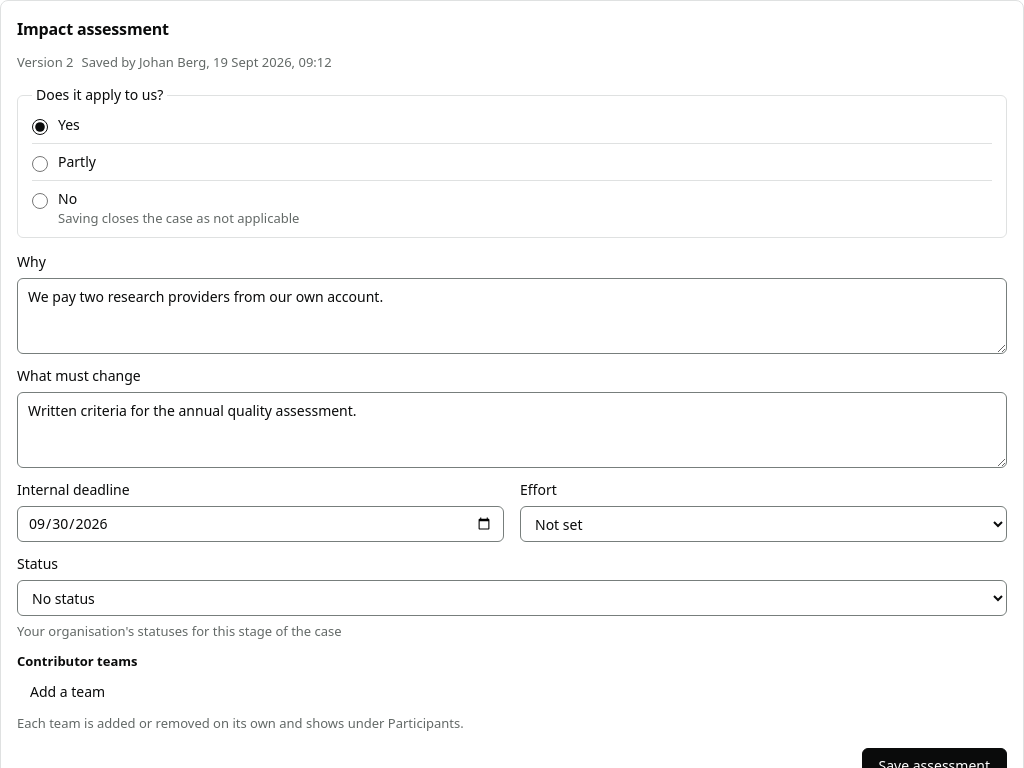
Test case: the assessment form › a stale write keeps the person’s text and offers a reload, never a merge
Replace the text in the text box labelled "Why" with "My own reasoning, not saved." at (512, 316), box x1=17 y1=278 x2=1007 y2=354
(page scrolled)
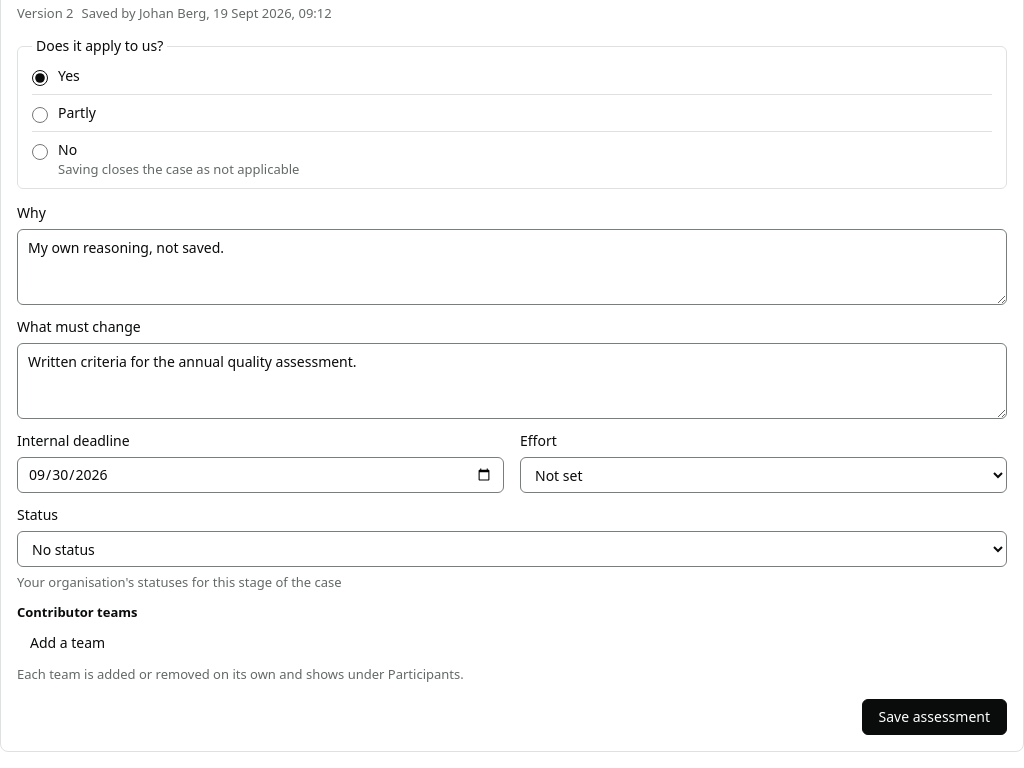
Click the button "Save assessment" at (934, 717), box x1=862 y1=699 x2=1007 y2=735
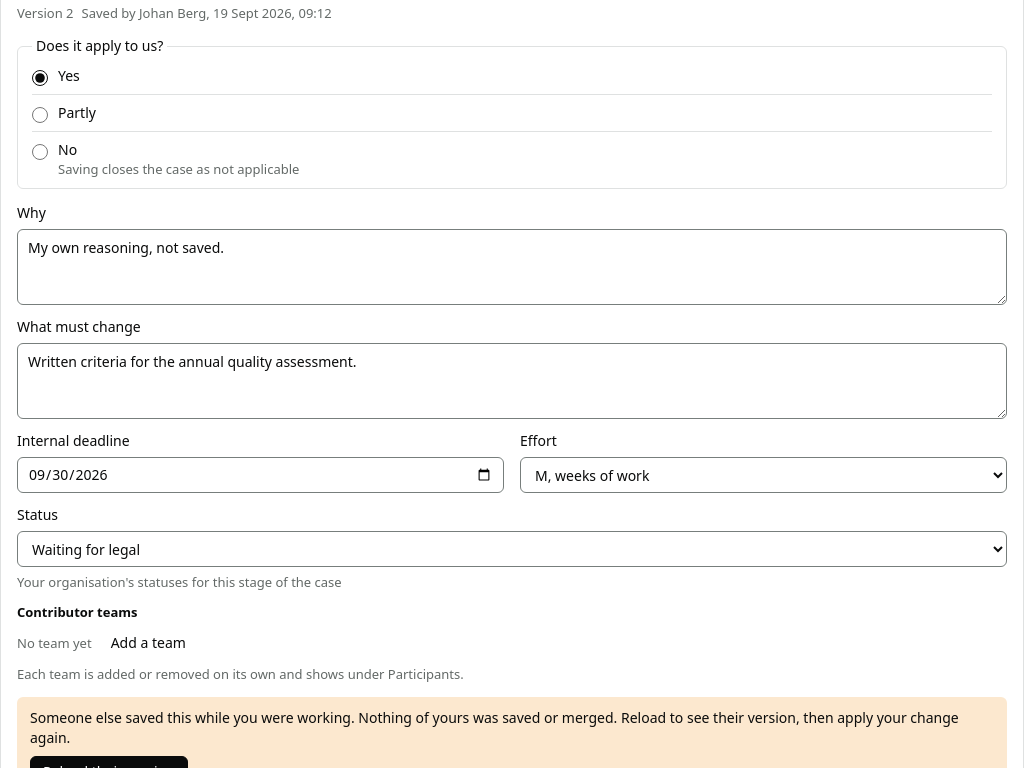
expect the text "Nothing of yours was saved or merged" is shown: met, box x1=30 y1=708 x2=959 y2=747
